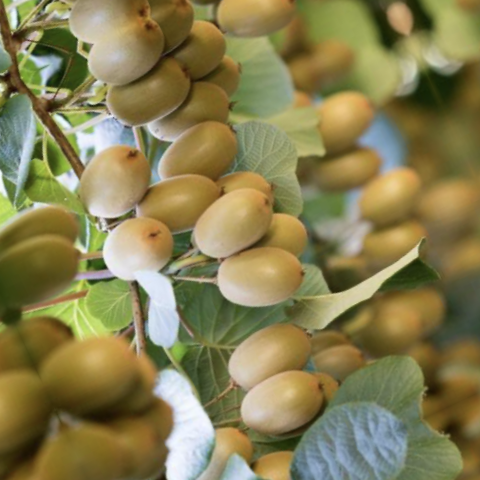kiwi: (84, 30, 219, 146), (186, 220, 322, 335), (206, 303, 328, 411), (59, 126, 172, 231), (174, 178, 287, 282), (226, 355, 342, 451), (198, 0, 311, 58)
